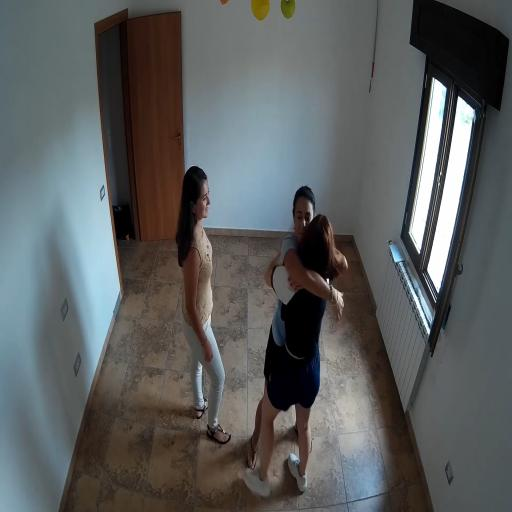nao-violencia: (236, 166, 353, 503)
